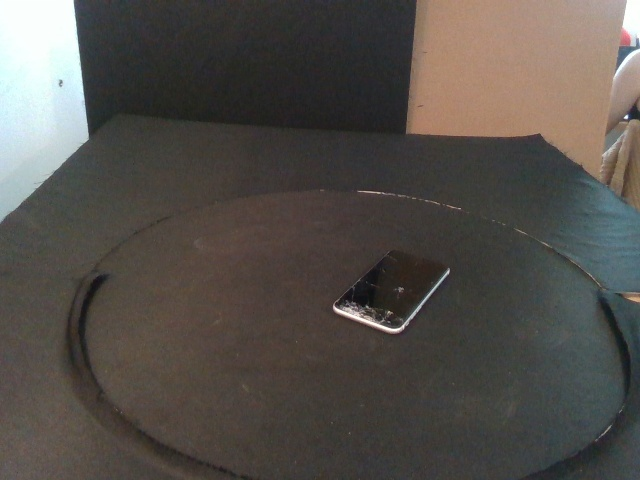phone: (331, 248, 450, 336)
